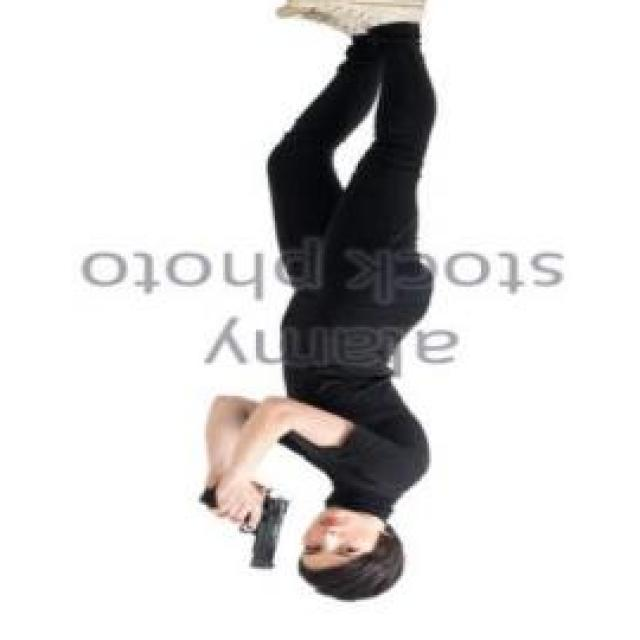pistol: (194, 483, 294, 569)
